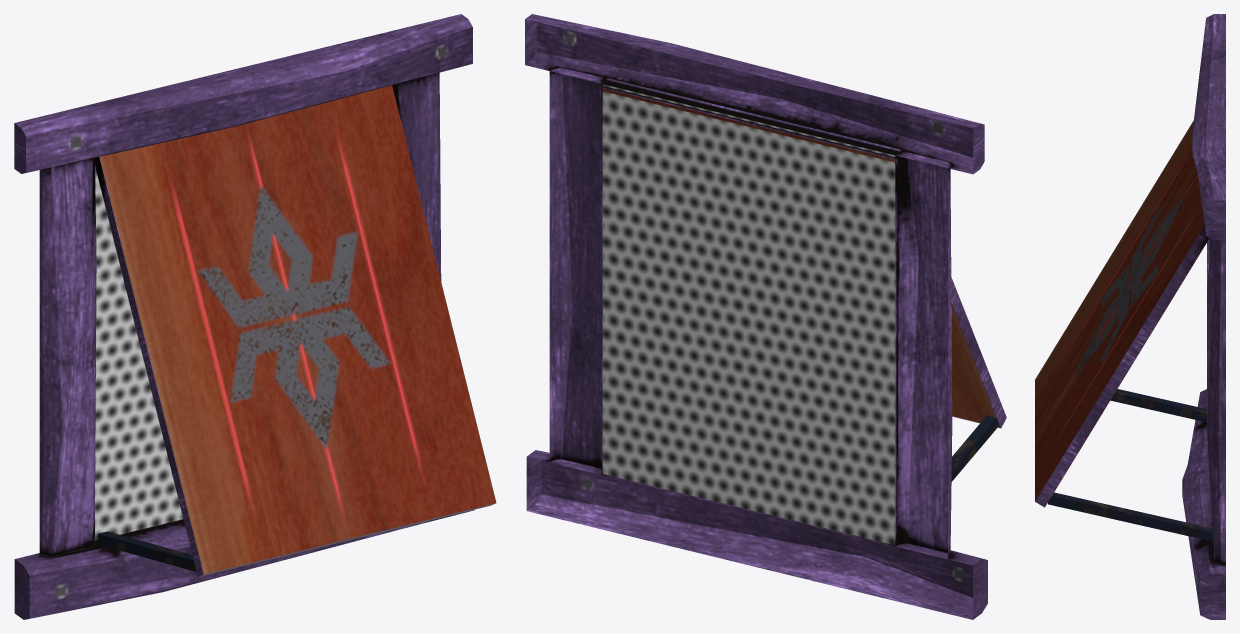
The model's file is TempleWindow_Art.glb.
The picture shows the model from 3 angles, left to right: view 1: azimuth 30°, elevation 25°; view 2: azimuth 150°, elevation 25°; view 3: azimuth 270°, elevation 25°; orthographic projection. The views are drawn at different scales.
Visible parts, largest first — view 1: Cyber_Exterior_Temple_Window_01_Shell, TempleWindow_Art, Cyber_Exterior_Temple_Window_01_Shell_Hold_1; view 2: TempleWindow_Art, Cyber_Exterior_Temple_Window_01_Shell, Cyber_Exterior_Temple_Window_01_Shell_Hold_1; view 3: Cyber_Exterior_Temple_Window_01_Shell, TempleWindow_Art, Cyber_Exterior_Temple_Window_01_Shell_Hold_2, Cyber_Exterior_Temple_Window_01_Shell_Hold_1.
Part boxes in pixels (x1,y1,x2,y2): Cyber_Exterior_Temple_Window_01_Shell: [95, 85, 496, 576]; TempleWindow_Art: [14, 14, 474, 619]; Cyber_Exterior_Temple_Window_01_Shell_Hold_1: [98, 531, 196, 571]; TempleWindow_Art: [525, 14, 987, 619]; Cyber_Exterior_Temple_Window_01_Shell: [601, 78, 1006, 428]; Cyber_Exterior_Temple_Window_01_Shell_Hold_1: [951, 415, 998, 481]; Cyber_Exterior_Temple_Window_01_Shell: [1035, 120, 1209, 507]; TempleWindow_Art: [1182, 14, 1225, 619]; Cyber_Exterior_Temple_Window_01_Shell_Hold_2: [1048, 492, 1213, 541]; Cyber_Exterior_Temple_Window_01_Shell_Hold_1: [1110, 389, 1206, 422].
Bounding box in the file's own units: 3.65 × 3.83 × 1.58.
Materials: 1 (1 with a texture image).
